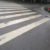others: (1, 3, 50, 36)
